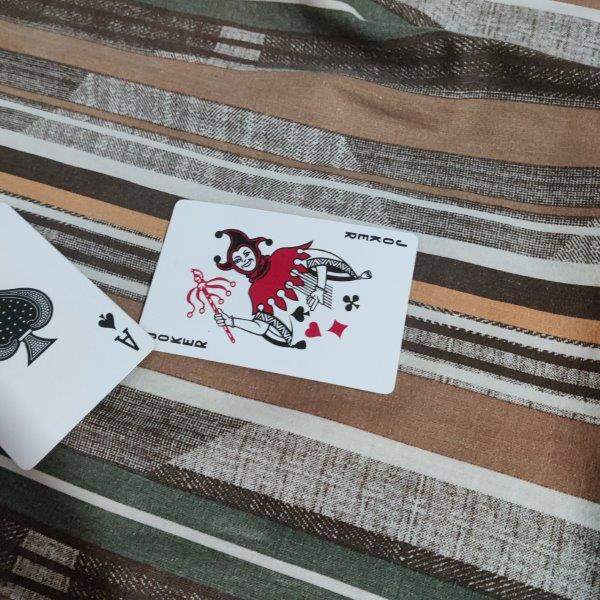Ace of Spades: (1, 202, 156, 472)
Joker: (137, 199, 419, 396)
